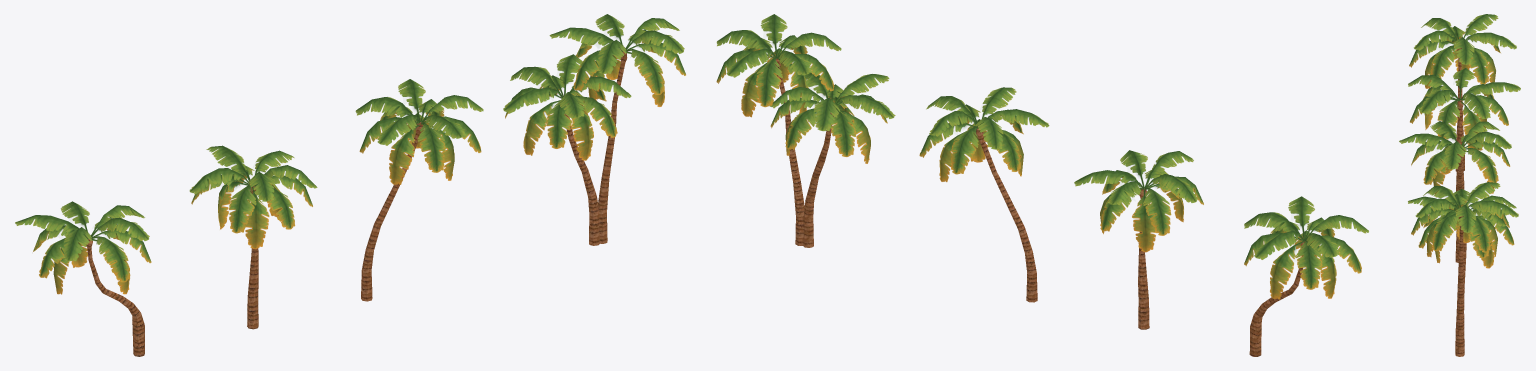
Rendered from palms.glb.
The picture shows the model from 3 angles, left to right: view 1: azimuth 30°, elevation 25°; view 2: azimuth 150°, elevation 25°; view 3: azimuth 270°, elevation 25°; orthographic projection. The views are drawn at different scales.
Parts seen in each view (by area): view 1: Leaf_4, Leaf_3, Leaf_2, Leaf_1, Bark_4, Bark_3, Bark_1, Bark_2; view 2: Leaf_4, Leaf_1, Leaf_2, Leaf_3, Bark_4, Bark_3, Bark_1, Bark_2; view 3: Leaf_4, Leaf_1, Leaf_3, Leaf_2, Bark_4, Bark_2, Bark_3, Bark_1.
Boxes of the visible parts, x1,y1,x2,y2 form: Leaf_4: (503, 14, 685, 160); Leaf_3: (355, 79, 483, 184); Leaf_2: (189, 145, 317, 249); Leaf_1: (15, 201, 151, 294); Bark_4: (565, 51, 627, 245); Bark_3: (361, 122, 423, 301); Bark_1: (86, 239, 144, 356); Bark_2: (247, 186, 258, 329); Leaf_4: (716, 14, 895, 163); Leaf_1: (1244, 196, 1368, 299); Leaf_2: (1074, 150, 1203, 252); Leaf_3: (919, 87, 1049, 182); Bark_4: (775, 58, 833, 247); Bark_3: (976, 127, 1037, 302); Bark_1: (1249, 241, 1304, 356); Bark_2: (1138, 188, 1149, 329); Leaf_4: (1408, 182, 1518, 268); Leaf_1: (1409, 14, 1516, 88); Leaf_3: (1399, 121, 1511, 196); Leaf_2: (1408, 68, 1520, 151); Bark_4: (1455, 216, 1466, 356); Bark_2: (1456, 100, 1464, 191); Bark_3: (1455, 154, 1462, 262); Bark_1: (1455, 48, 1464, 171).
Bounding box in the file's own units: 17.15 × 5.31 × 3.44.
Materials: 7 (7 with a texture image).
